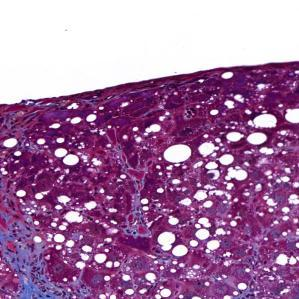fibrosis: (4, 207, 76, 294)
